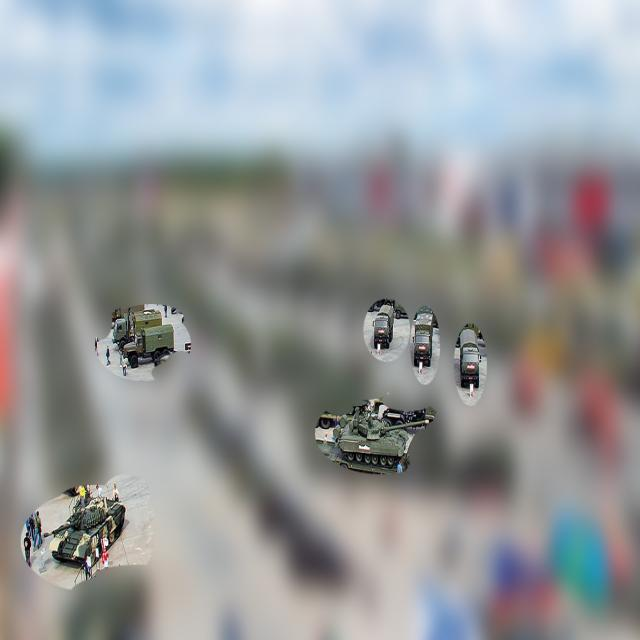tank: (39, 494, 128, 570), (331, 409, 431, 467)
